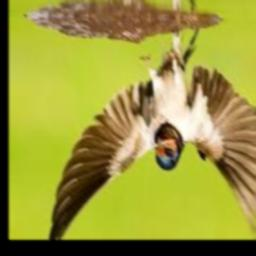Swallow: (48, 30, 256, 240)
